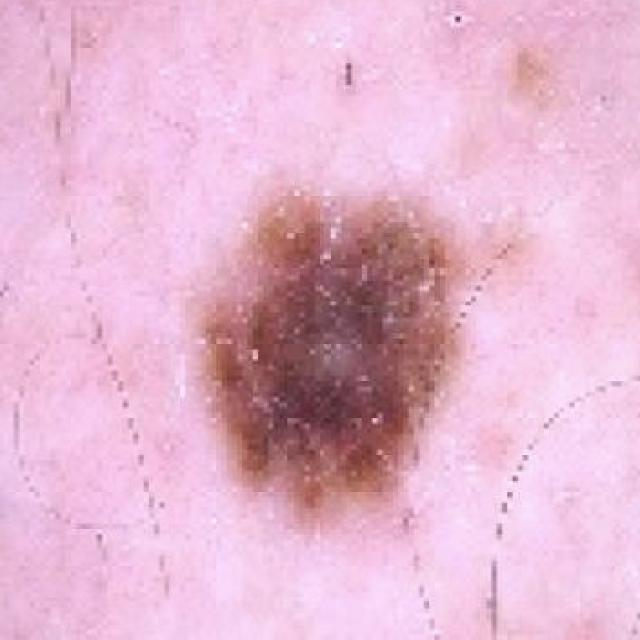MEL: (171, 128, 489, 598)
